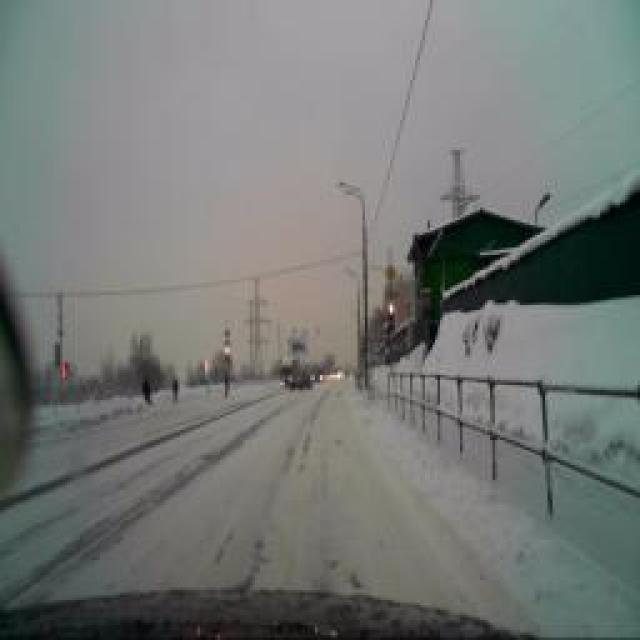sign: (384, 262, 396, 282)
